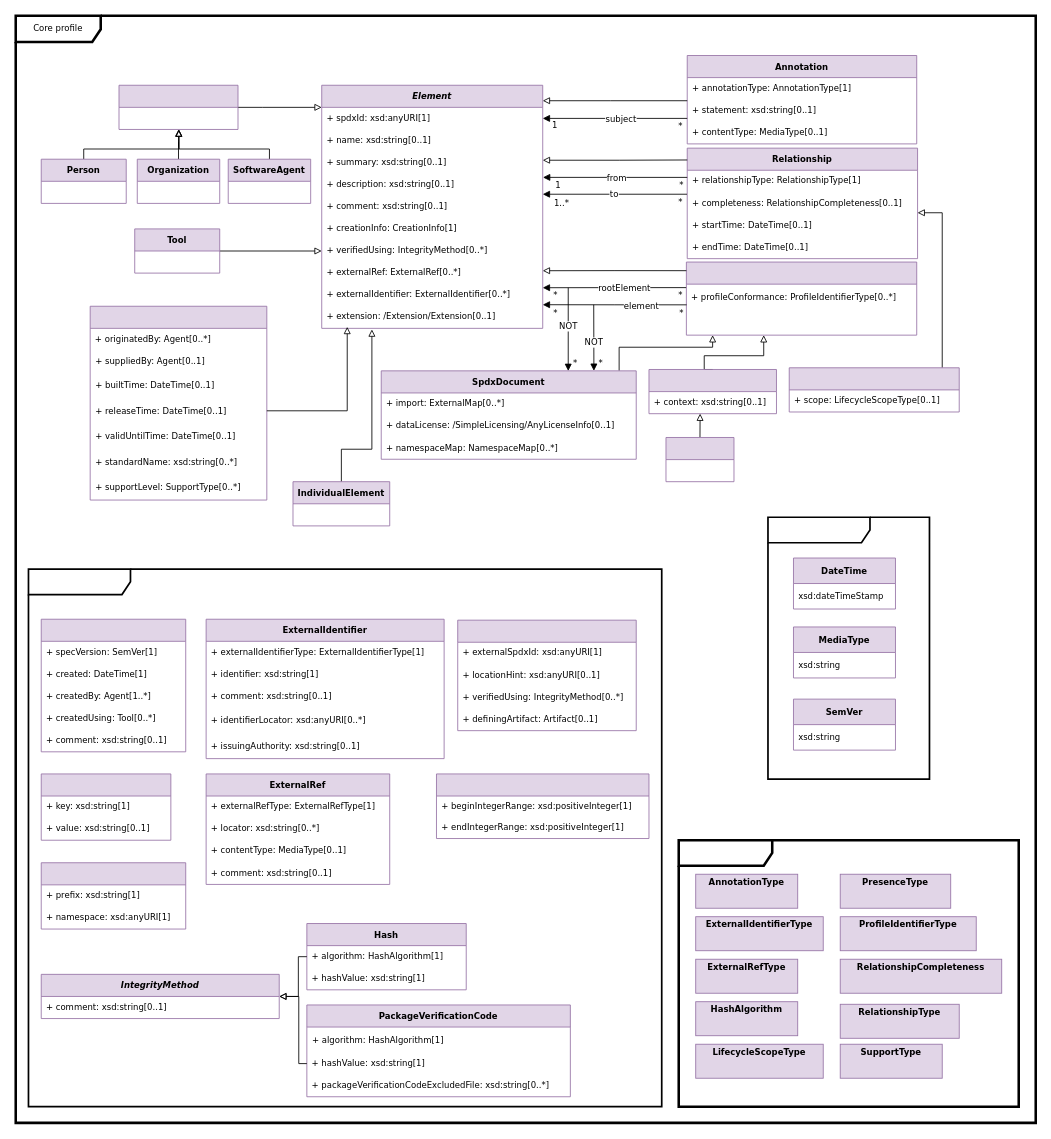
Some shapes in this 1051 by 1139 pixel diagram are drawn without their labels. The shapes that lost their labels are listed below. From the top down, each one's box as (x1, y1, x2, y2) in pixels, then its label:
(118, 84, 238, 129): Agent
(686, 261, 917, 335): ElementCollection
(89, 305, 267, 500): Artifact
(648, 369, 776, 414): Bundle
(788, 367, 959, 412): LifecycleScopedRelationship
(665, 437, 734, 482): Bom
(767, 516, 930, 779): Simple Data Types
(40, 618, 186, 752): CreationInfo
(457, 619, 636, 731): ExternalMap
(40, 773, 171, 840): DictionaryEntry
(436, 773, 649, 839): PositiveIntegerRange
(27, 568, 662, 1107): Non-Element Classes
(40, 862, 186, 929): NamespaceMap
(677, 839, 1020, 1108): Enumerations
